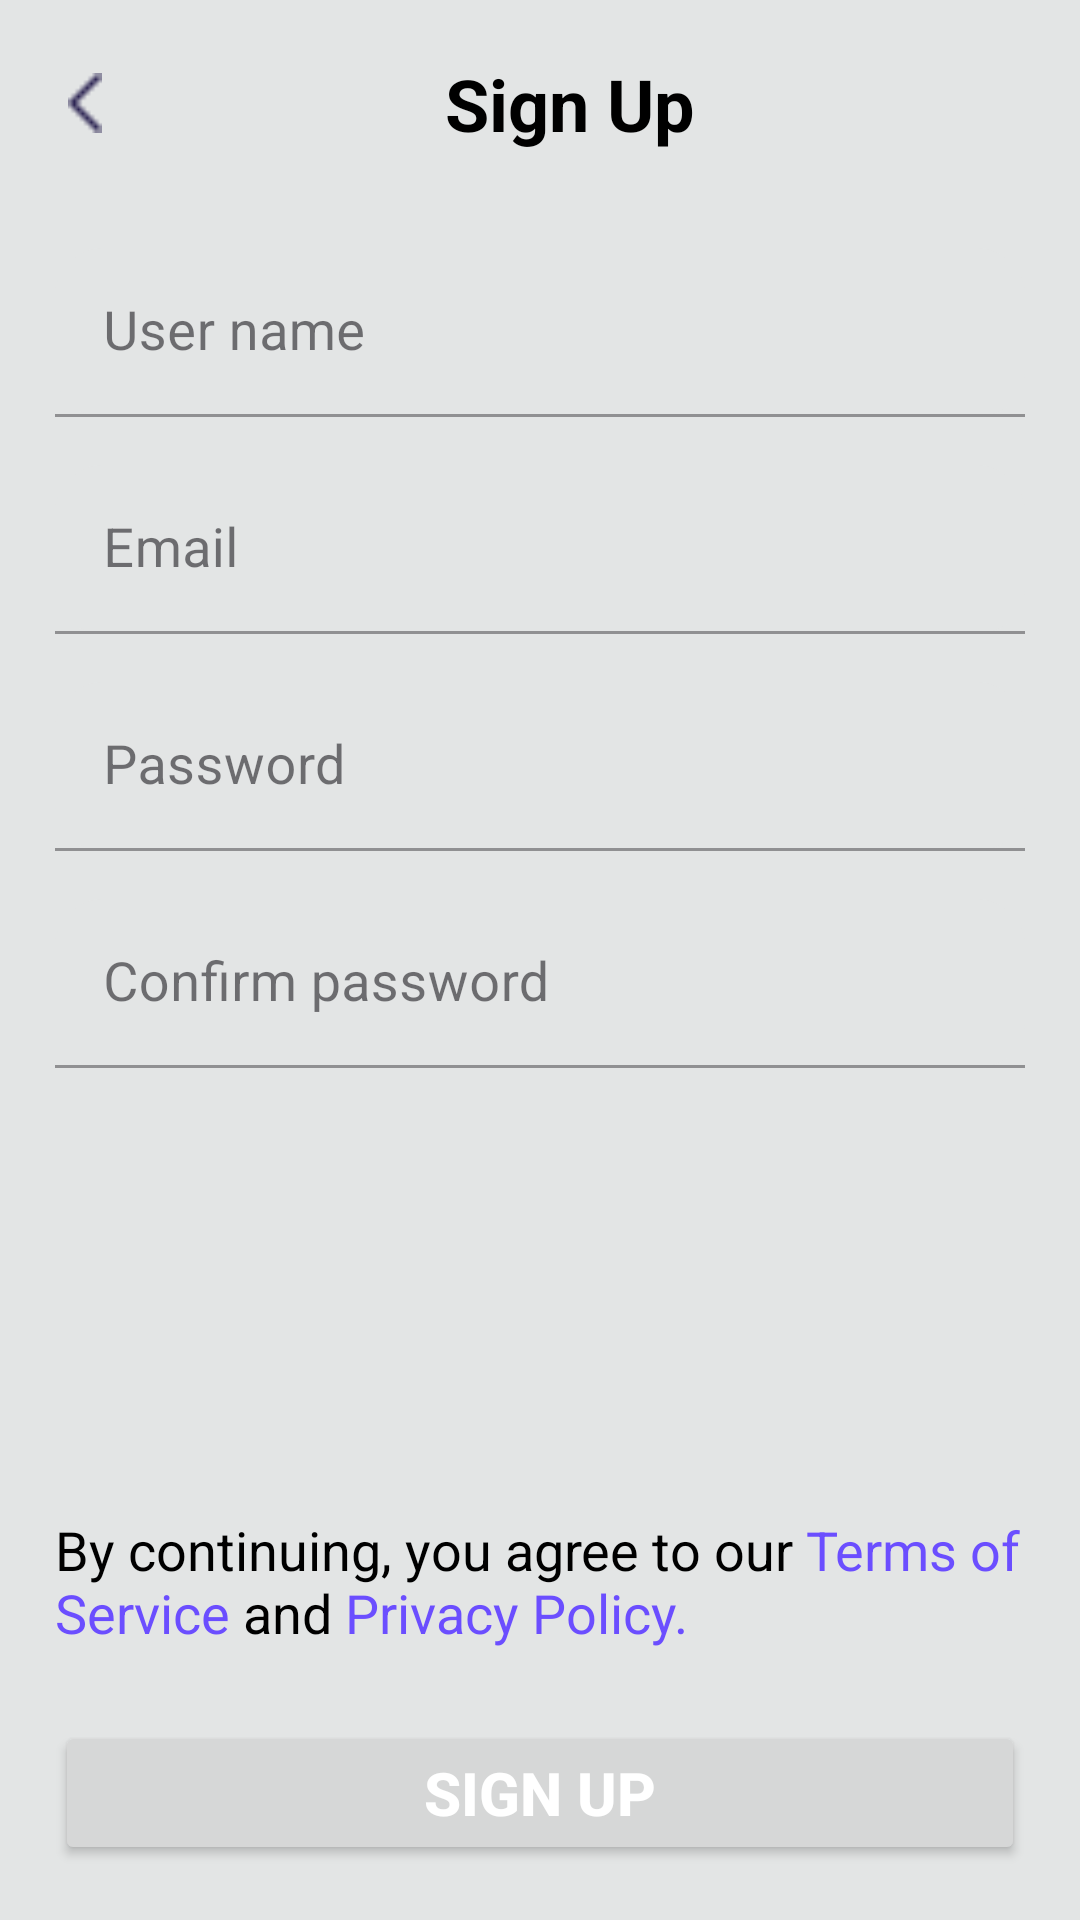

Icons on this 1080 x 1920 Android screen, each with the point to tap as (x,y):
arrow back: (85,103)
